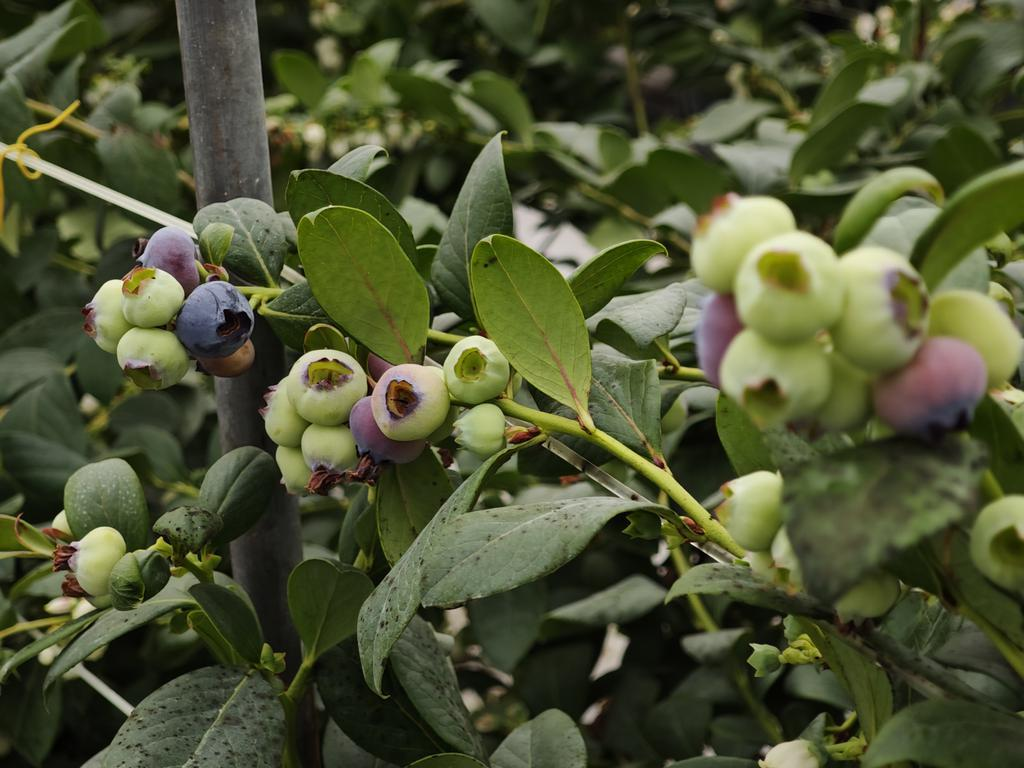RipeBlueBerry: (179, 280, 256, 360)
Semi-RipeBlueBerry: (872, 331, 990, 441)
UnripeBlueBerry: (734, 227, 846, 338), (290, 345, 369, 428), (374, 364, 453, 439)
